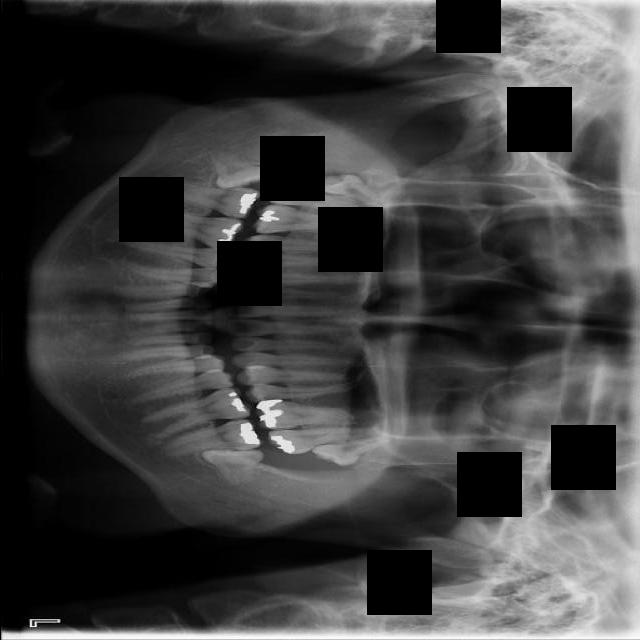3M ESPE Implant: (312, 165, 398, 212)
52: (206, 378, 256, 430), (195, 207, 244, 256), (214, 176, 262, 226), (219, 412, 264, 458), (250, 396, 301, 434), (247, 201, 299, 236), (267, 179, 319, 208), (266, 429, 315, 455)
73: (59, 563, 75, 571)
BioHorizons Implant: (266, 424, 391, 456)
BioLife Implant: (310, 434, 394, 471)
Biomet 3i Implant: (201, 447, 264, 487)
Blue Sky Bio Implant: (157, 417, 264, 460)
Caries: (267, 177, 386, 218)
Implant: (155, 177, 262, 221)
Keystone Dental Implant: (194, 140, 273, 207)
